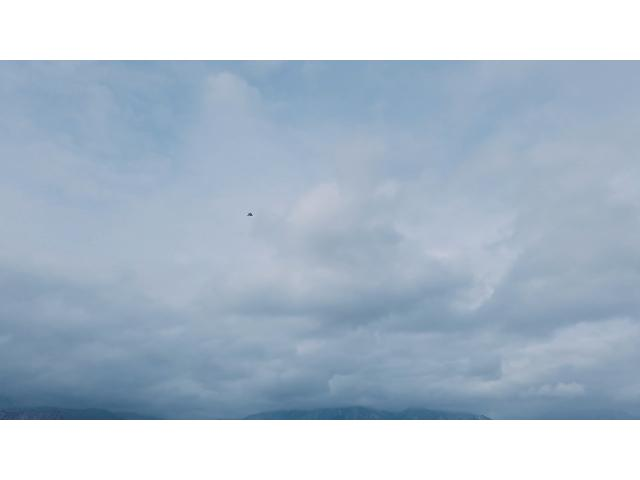Anti-Drone: (244, 211, 256, 220)
